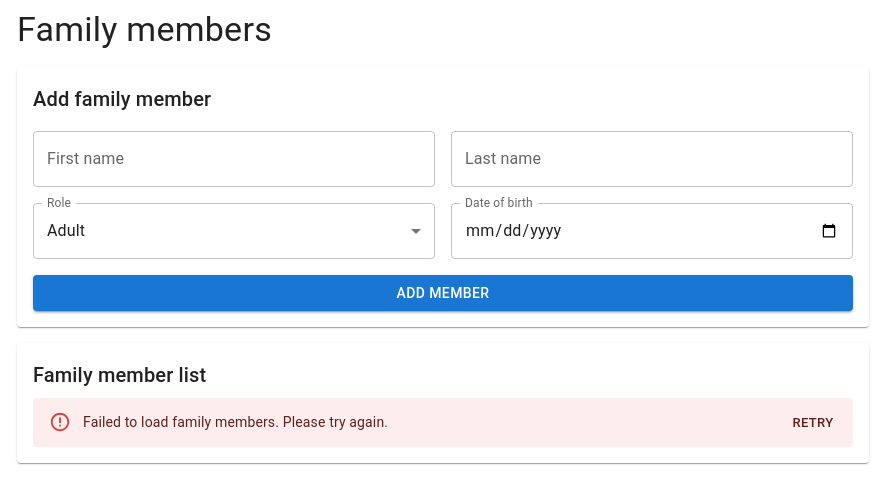
it: FamilyMembersPage › shows list load error and allows retry
Expected: the text "Failed to load family members. Please try again." is shown, [83,414,388,430]
Click the button "Retry" at (813, 424), box [781,408,845,439]
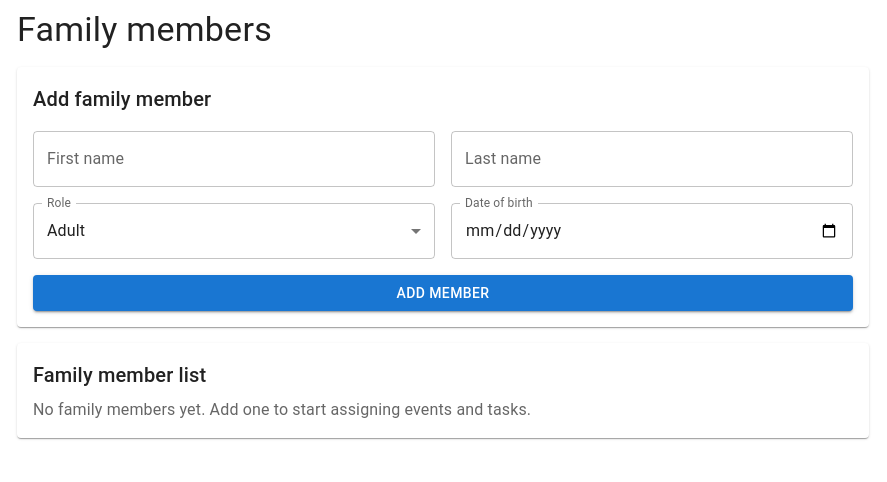
Result: the text "No family members yet" is shown at [33,400,531,420]
